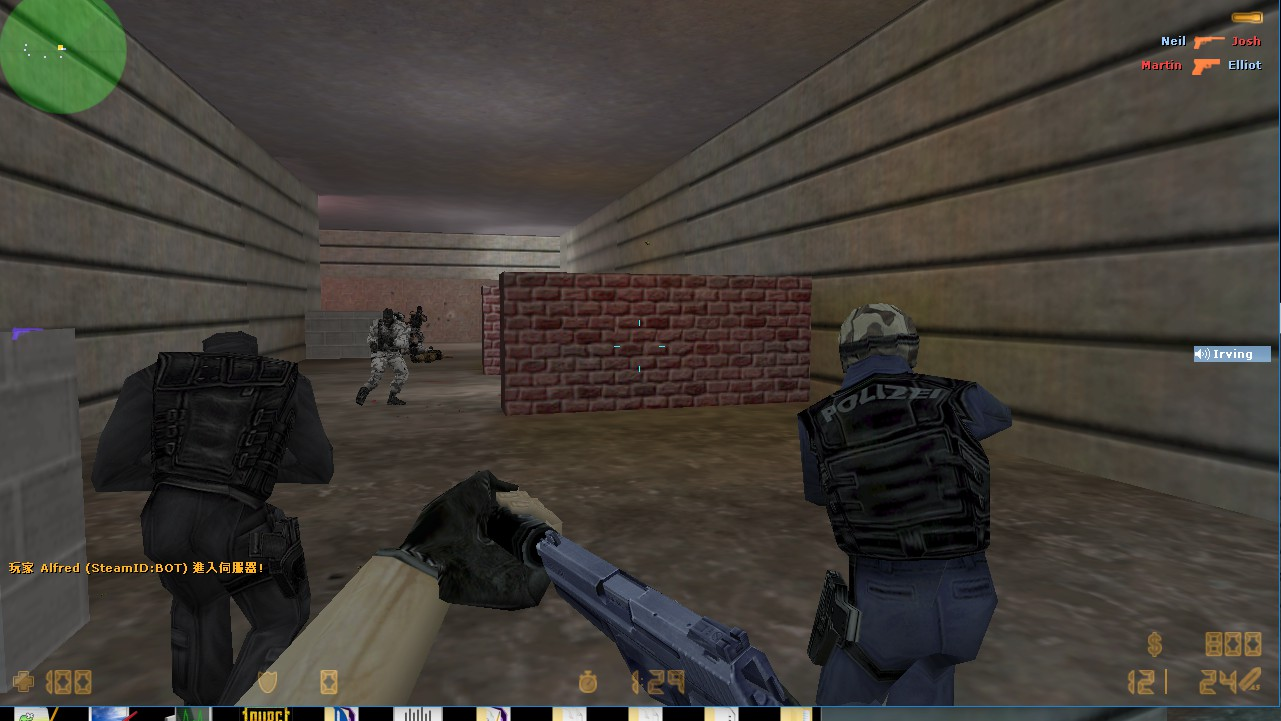person: (807, 296, 997, 691), (363, 306, 409, 404), (405, 300, 431, 348)
